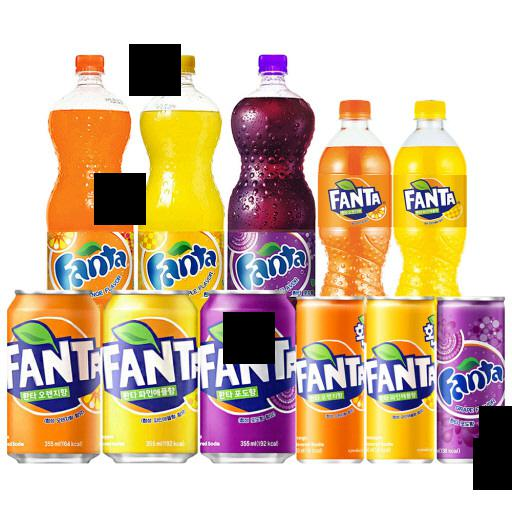fanta_orange: (5, 291, 99, 466)
